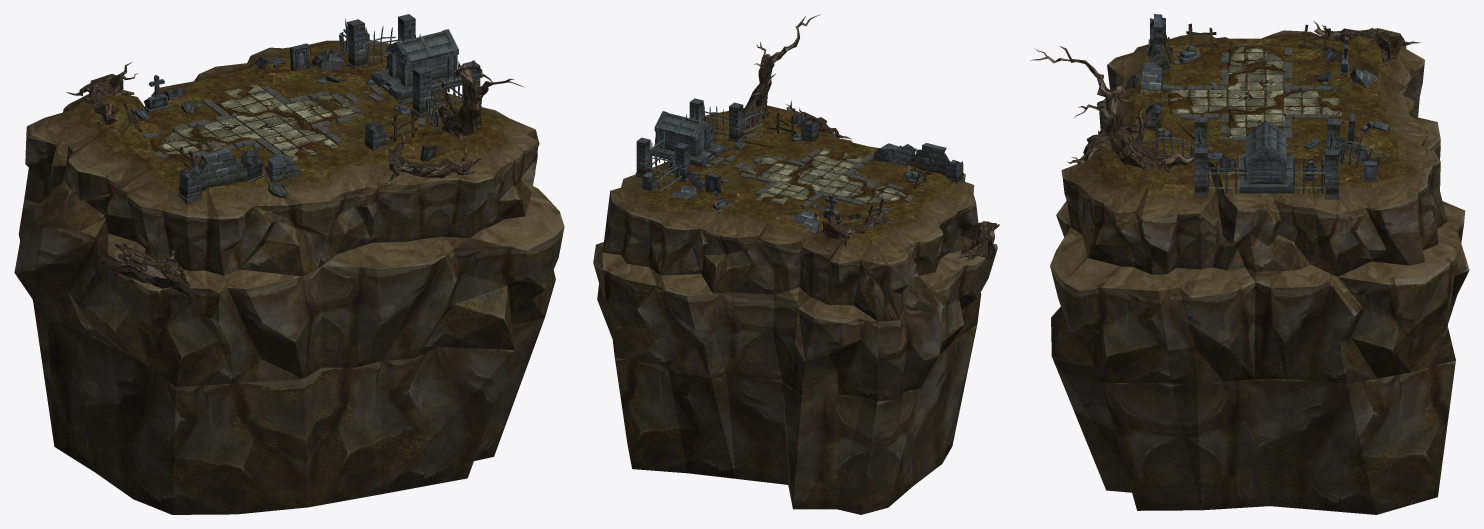
Rendered from cell3UD.fbx.
The picture shows the model from 3 angles, left to right: view 1: azimuth 30°, elevation 25°; view 2: azimuth 150°, elevation 25°; view 3: azimuth 270°, elevation 25°; orthographic projection. The views are drawn at different scales.
Parts seen in each view (by area): view 1: cell3UD; view 2: cell3UD; view 3: cell3UD.
Boxes of the visible parts, x1,y1,x2,y2 form: cell3UD: (14, 14, 564, 514); cell3UD: (593, 14, 999, 514); cell3UD: (1030, 14, 1469, 514).
Bounding box in the file's own units: 26.01 × 24.77 × 22.65.
